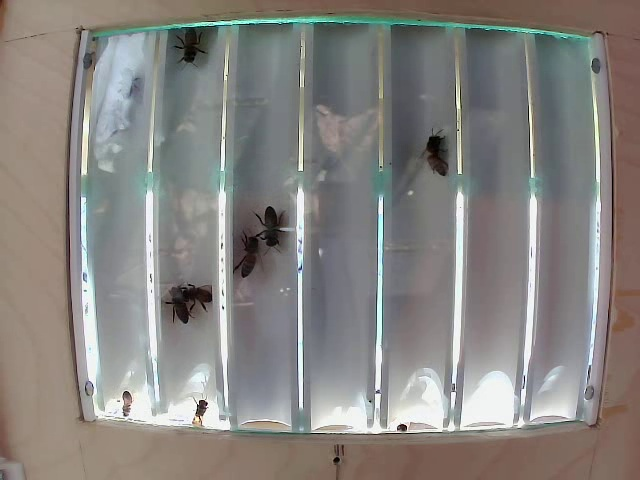bee: (255, 203, 290, 259), (404, 127, 442, 176), (233, 235, 270, 281), (159, 286, 194, 324), (192, 268, 218, 316), (182, 26, 207, 66)
